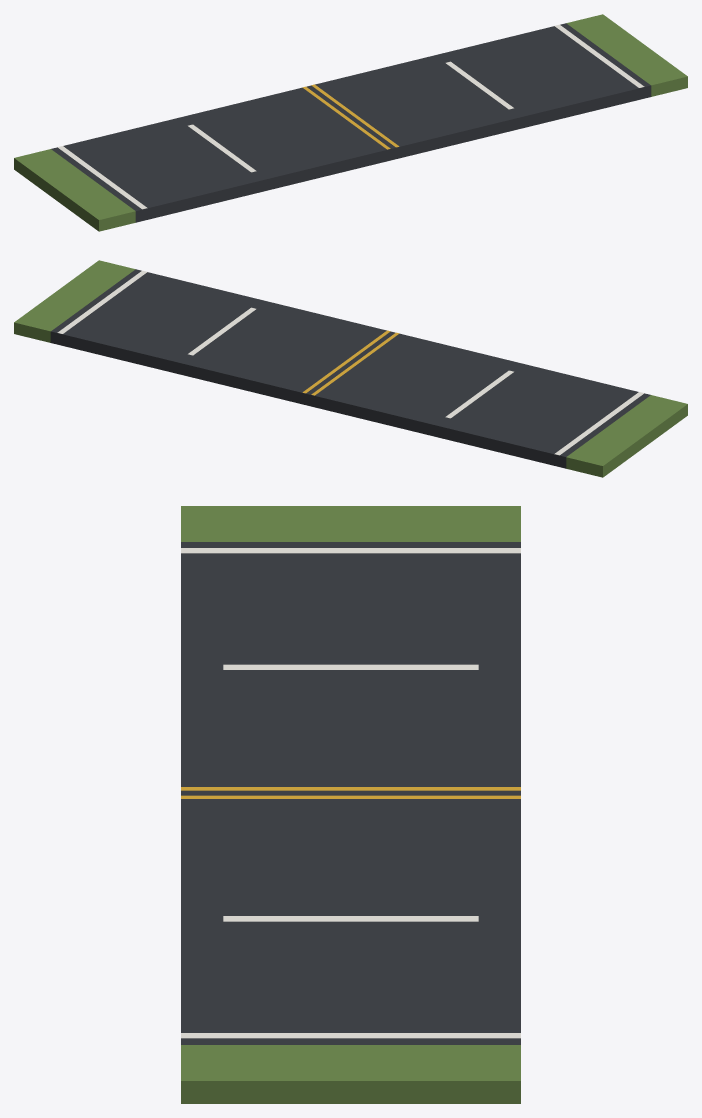
Rendered from Road_4Lane_NoSidewalk_Straight_4m.glb.
The picture shows the model from 3 angles, top to bottom: view 1: azimuth 30°, elevation 25°; view 2: azimuth 150°, elevation 25°; view 3: azimuth 270°, elevation 25°; orthographic projection. The views are drawn at different scales.
Parts seen in each view (by area): view 1: Road_4Lane_NoSidewalk_Straight_4m_Asphalt, Road_4Lane_NoSidewalk_Straight_4m_Grass-edge, Road_4Lane_NoSidewalk_Straight_4m_PaintWhite, Road_4Lane_NoSidewalk_Straight_4m_PaintYellow; view 2: Road_4Lane_NoSidewalk_Straight_4m_Asphalt, Road_4Lane_NoSidewalk_Straight_4m_Grass-edge, Road_4Lane_NoSidewalk_Straight_4m_PaintWhite, Road_4Lane_NoSidewalk_Straight_4m_PaintYellow; view 3: Road_4Lane_NoSidewalk_Straight_4m_Asphalt, Road_4Lane_NoSidewalk_Straight_4m_Grass-edge, Road_4Lane_NoSidewalk_Straight_4m_PaintWhite, Road_4Lane_NoSidewalk_Straight_4m_PaintYellow.
Boxes of the visible parts, left/top/right/bottom form: Road_4Lane_NoSidewalk_Straight_4m_Asphalt: left=51, top=23, right=651, bottom=222; Road_4Lane_NoSidewalk_Straight_4m_Grass-edge: left=14, top=14, right=687, bottom=231; Road_4Lane_NoSidewalk_Straight_4m_PaintWhite: left=57, top=24, right=644, bottom=209; Road_4Lane_NoSidewalk_Straight_4m_PaintYellow: left=302, top=84, right=399, bottom=149; Road_4Lane_NoSidewalk_Straight_4m_Asphalt: left=50, top=269, right=650, bottom=468; Road_4Lane_NoSidewalk_Straight_4m_Grass-edge: left=14, top=260, right=687, bottom=477; Road_4Lane_NoSidewalk_Straight_4m_PaintWhite: left=57, top=270, right=644, bottom=455; Road_4Lane_NoSidewalk_Straight_4m_PaintYellow: left=302, top=330, right=399, bottom=395; Road_4Lane_NoSidewalk_Straight_4m_Asphalt: left=181, top=542, right=520, bottom=1044; Road_4Lane_NoSidewalk_Straight_4m_Grass-edge: left=181, top=506, right=520, bottom=1103; Road_4Lane_NoSidewalk_Straight_4m_PaintWhite: left=181, top=548, right=520, bottom=1038; Road_4Lane_NoSidewalk_Straight_4m_PaintYellow: left=181, top=787, right=520, bottom=798.
Size of the model in its own units: 16 by 0.305 by 4.
